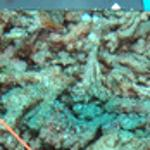dead: (1, 7, 148, 148)
